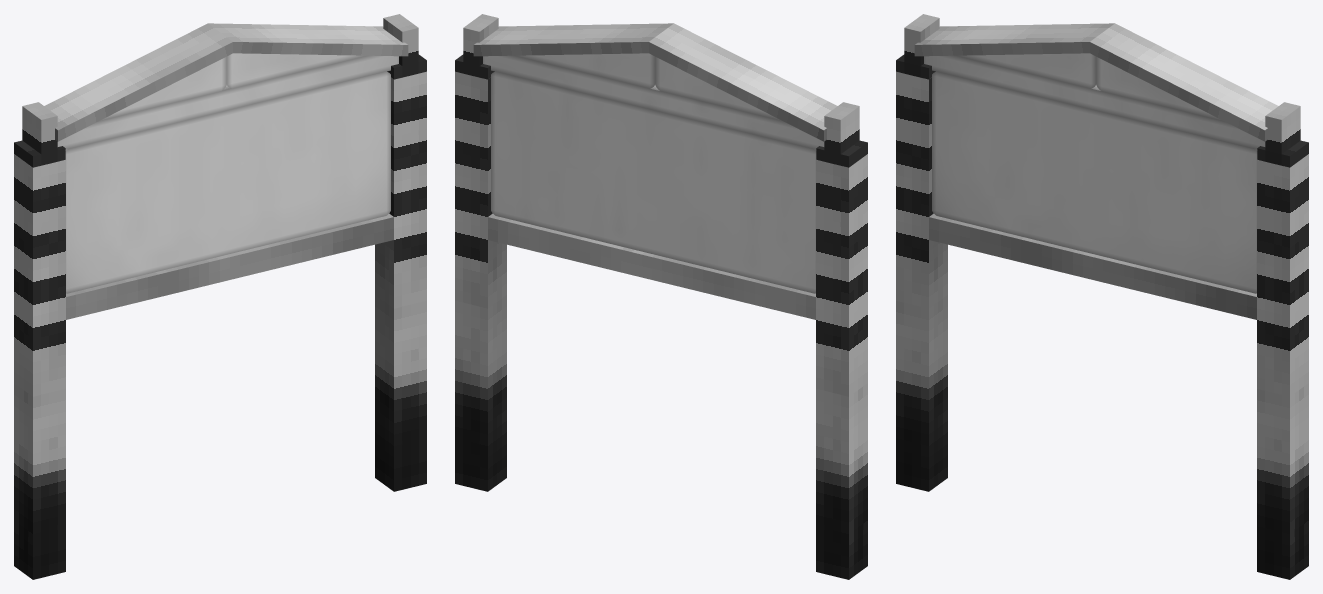
Rendered from ground_station_sign.obj.
3 renders of one model, left to right at view 1: azimuth 30°, elevation 25°; view 2: azimuth 150°, elevation 25°; view 3: azimuth 330°, elevation 25°, orthographic.
Bounding box in the file's own units: 2.25 × 2.69 × 0.25.
